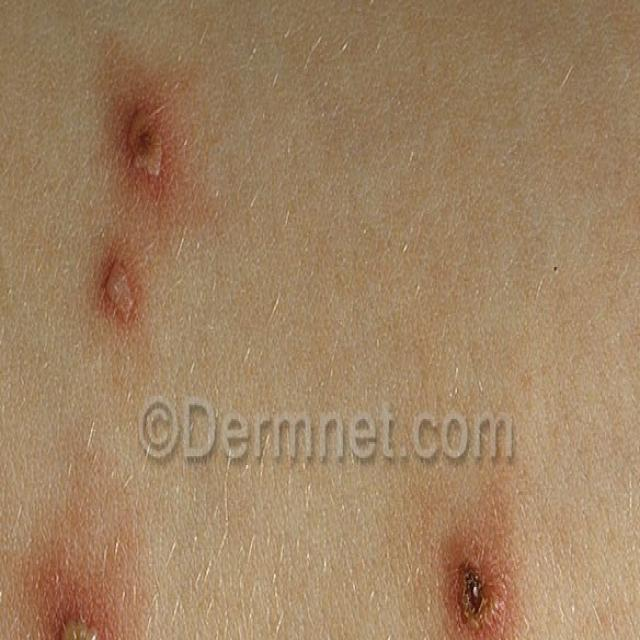Viral Infections: (59, 91, 196, 376), (415, 495, 513, 640), (35, 587, 128, 640)
